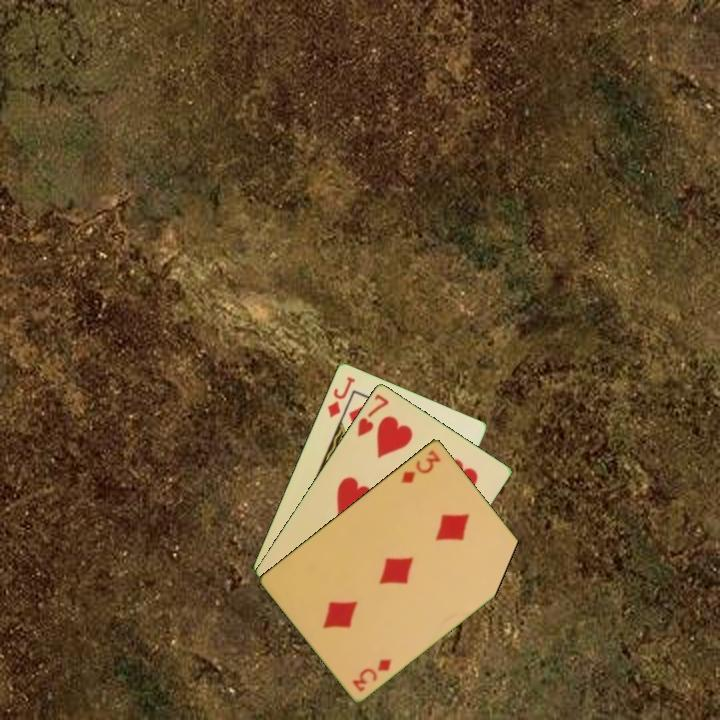3d: (398, 446, 444, 486), (349, 654, 395, 694)
7h: (354, 390, 392, 439)
Jd: (324, 373, 358, 420)
